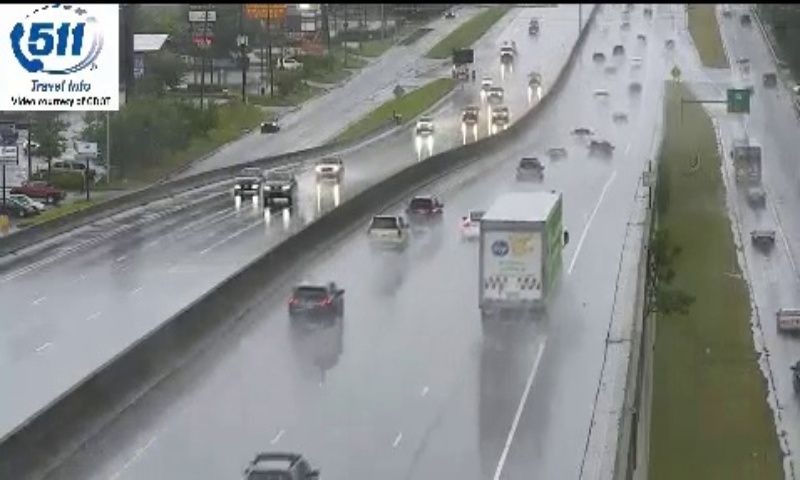car: (289, 283, 343, 325), (364, 215, 406, 249), (405, 194, 443, 228), (461, 209, 492, 236), (516, 157, 544, 183)
small-truck: (480, 192, 562, 316)
